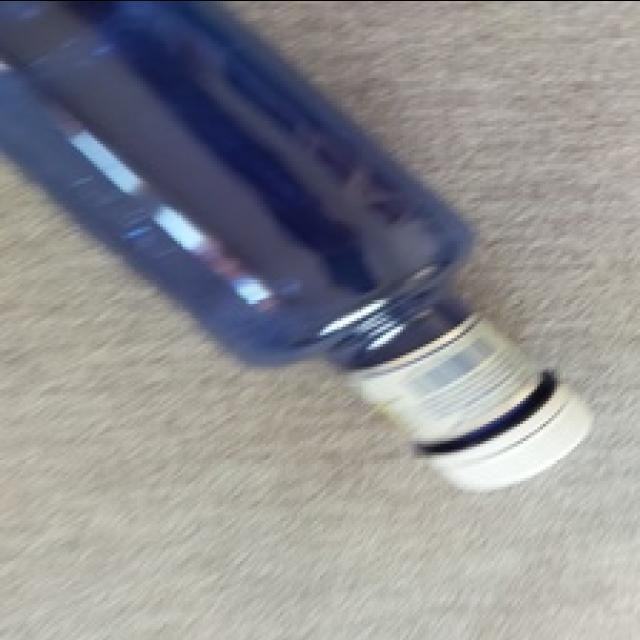good: (0, 0, 591, 500)
